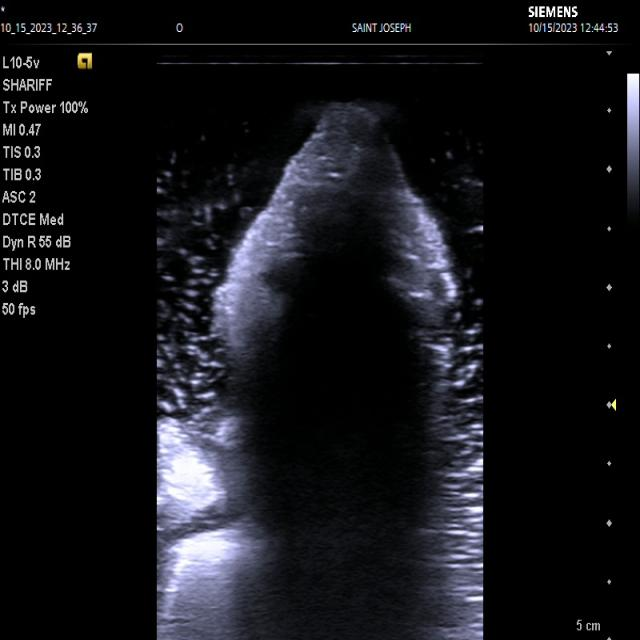tissue: (211, 104, 466, 510)
